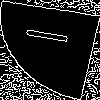I: (25, 25, 80, 47)
